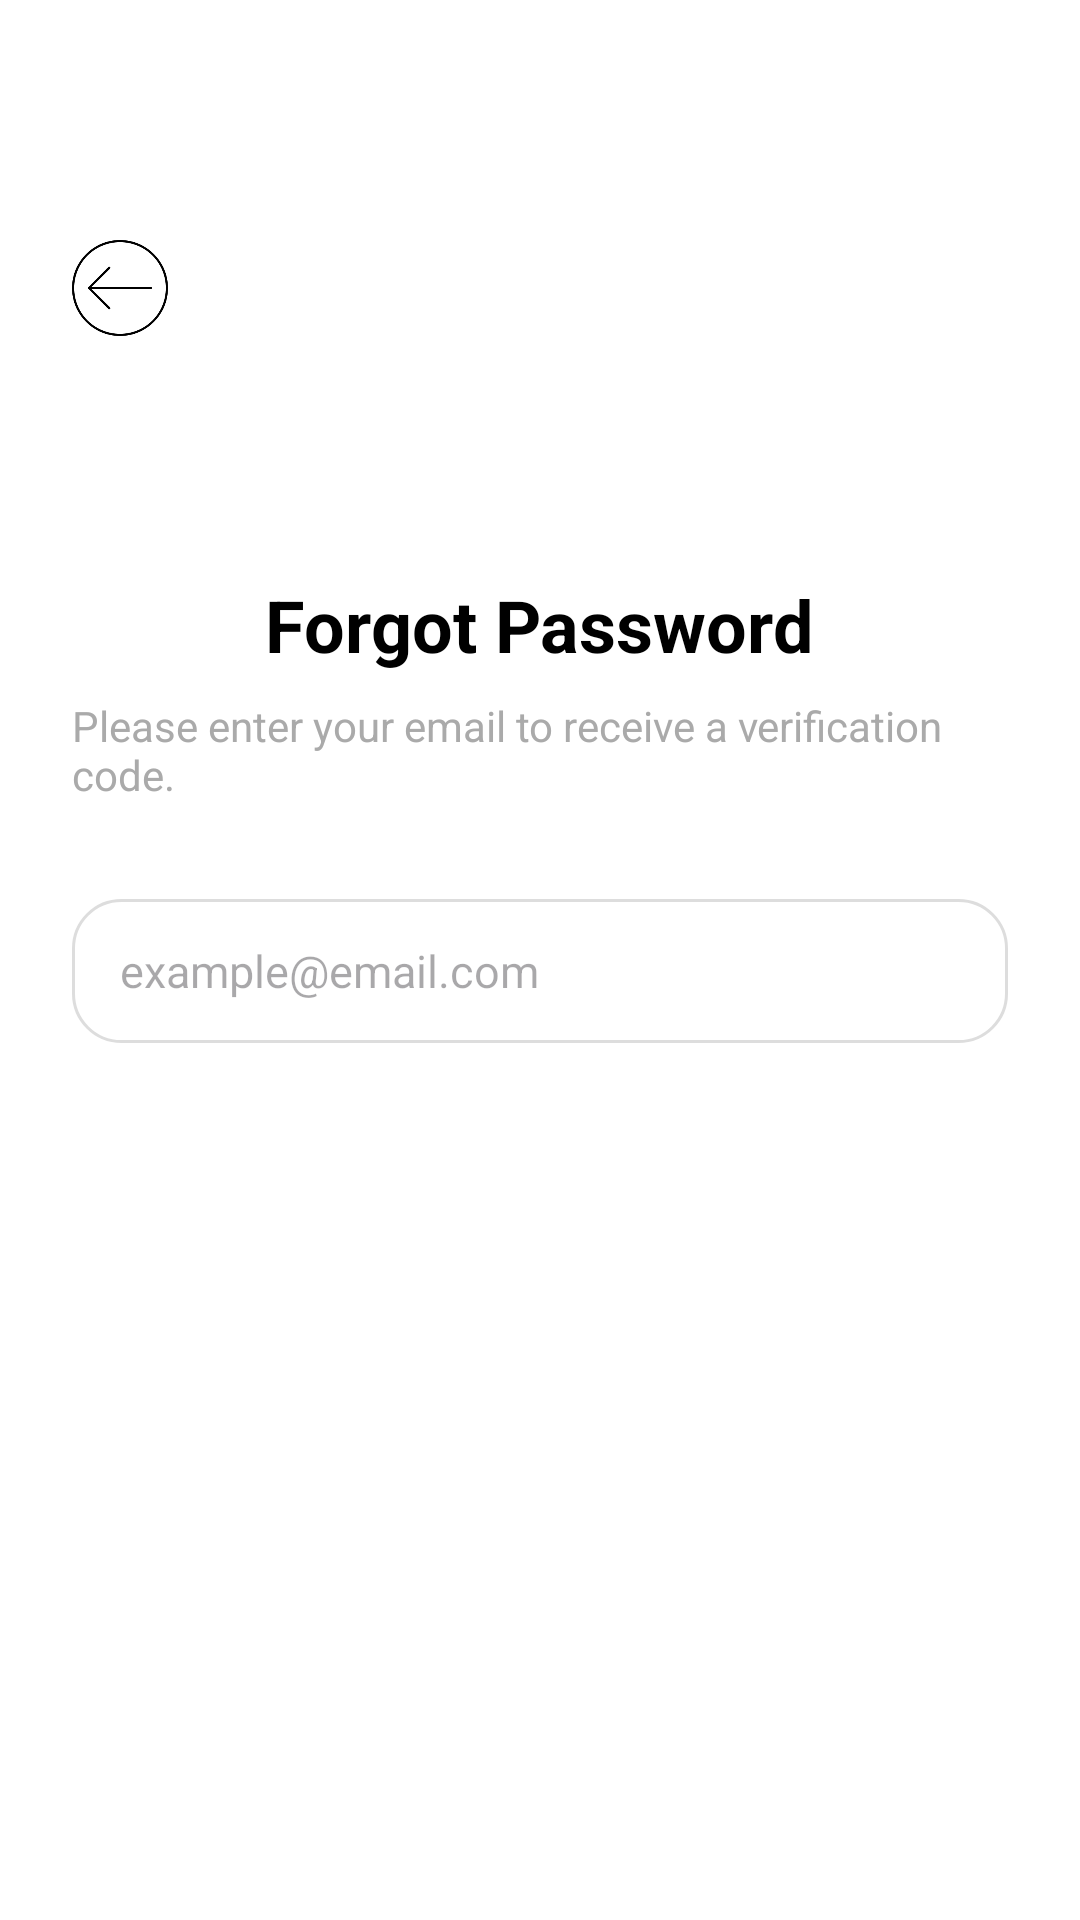

Screen size 1080*1920. Icon name, then its box in pixels as (x1, y1, x2, y2):
Back: (72, 240, 168, 336)
